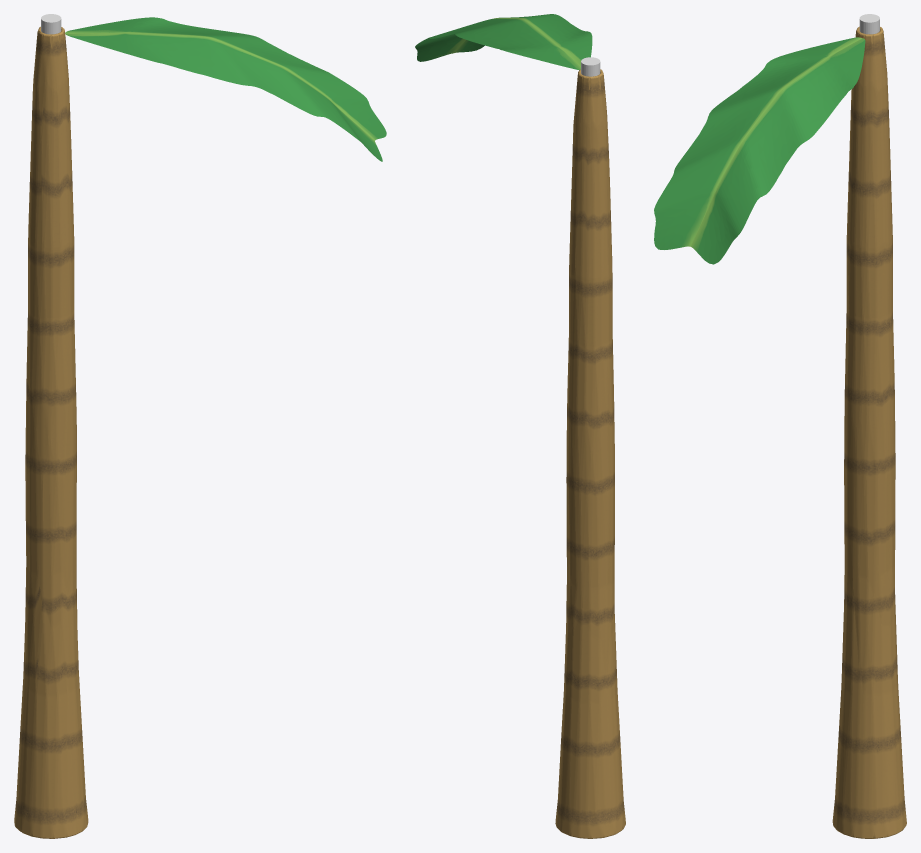
The model's file is coconut_tree.fbx.
3 renders of one model, left to right at view 1: azimuth 30°, elevation 25°; view 2: azimuth 150°, elevation 25°; view 3: azimuth 270°, elevation 25°, orthographic. The views are drawn at different scales.
Visible parts, largest first — view 1: Trunk, Leaf; view 2: Trunk, Leaf; view 3: Trunk, Leaf.
Boxes of the visible parts, x1,y1,x2,y2 form: Trunk: [14, 26, 88, 838]; Leaf: [65, 17, 386, 161]; Trunk: [555, 69, 625, 838]; Leaf: [415, 14, 592, 70]; Trunk: [832, 26, 906, 838]; Leaf: [654, 37, 865, 264].
Size of what is drawn, in the model's own units: 4609 by 12226 by 3478.
Materials: 2 (2 with a texture image).
